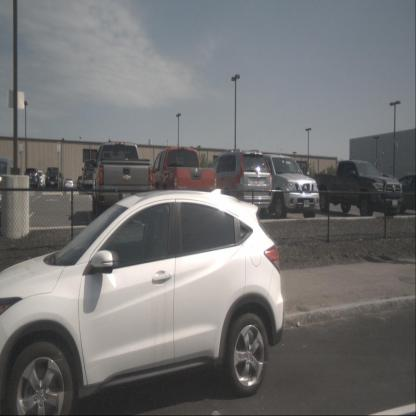vehicle-car: (0, 186, 285, 415), (237, 153, 320, 220), (198, 148, 272, 219), (0, 156, 22, 221), (384, 174, 415, 215), (45, 167, 61, 191), (24, 168, 41, 190), (34, 170, 46, 191), (77, 176, 87, 190), (64, 178, 74, 191)
vehicle-truck: (144, 146, 218, 221), (92, 140, 154, 226), (316, 160, 402, 218), (82, 159, 103, 192)
